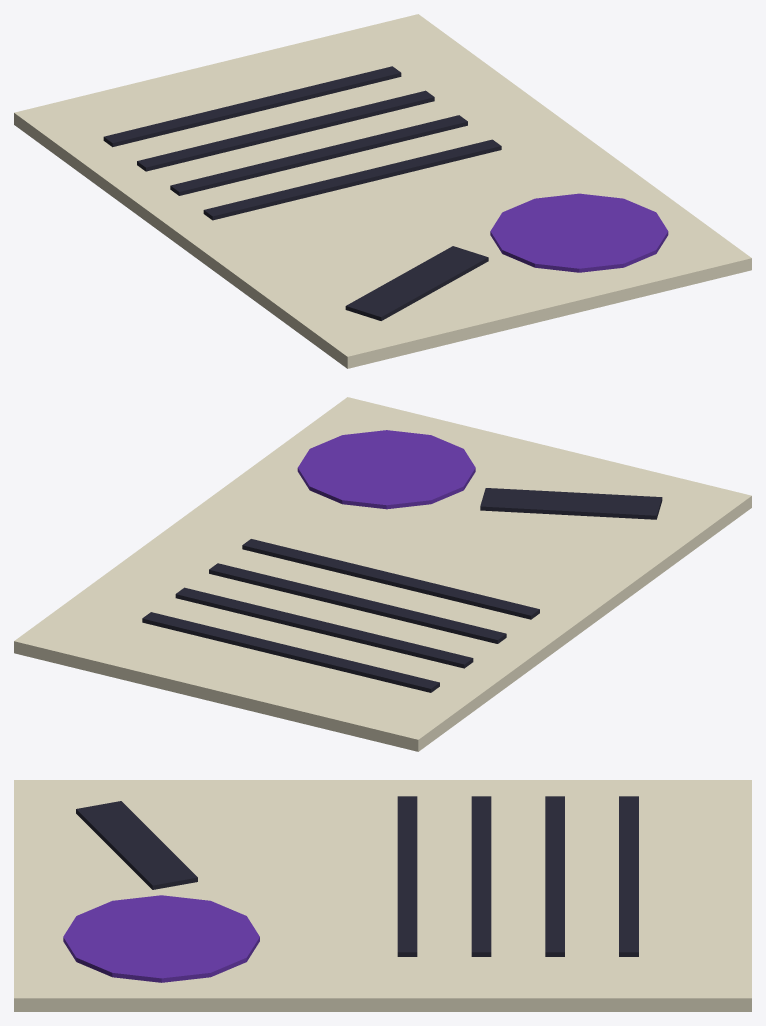
File: carwash_car_papers.glb
3 views of the same model, one above another, from view 1: azimuth 30°, elevation 25°; view 2: azimuth 150°, elevation 25°; view 3: azimuth 270°, elevation 25° (orthographic). The views are drawn at different scales.
Parts seen in each view (by area): view 1: paper_papers_paper, ink_papers_ink (×5), stamp_papers_stamp; view 2: paper_papers_paper, ink_papers_ink (×5), stamp_papers_stamp; view 3: paper_papers_paper, ink_papers_ink (×5), stamp_papers_stamp.
Part boxes in pixels (x1,y1,x2,y2): paper_papers_paper: (14,14,751,368); ink_papers_ink (×5): (103,66,501,320); stamp_papers_stamp: (490,193,668,272); paper_papers_paper: (14,397,751,751); ink_papers_ink (×5): (142,488,662,692); stamp_papers_stamp: (297,430,475,509); paper_papers_paper: (14,780,751,1011); ink_papers_ink (×5): (76,796,638,956); stamp_papers_stamp: (63,895,259,982).
Size of the model in its own units: 0.21 by 0.008 by 0.3.
